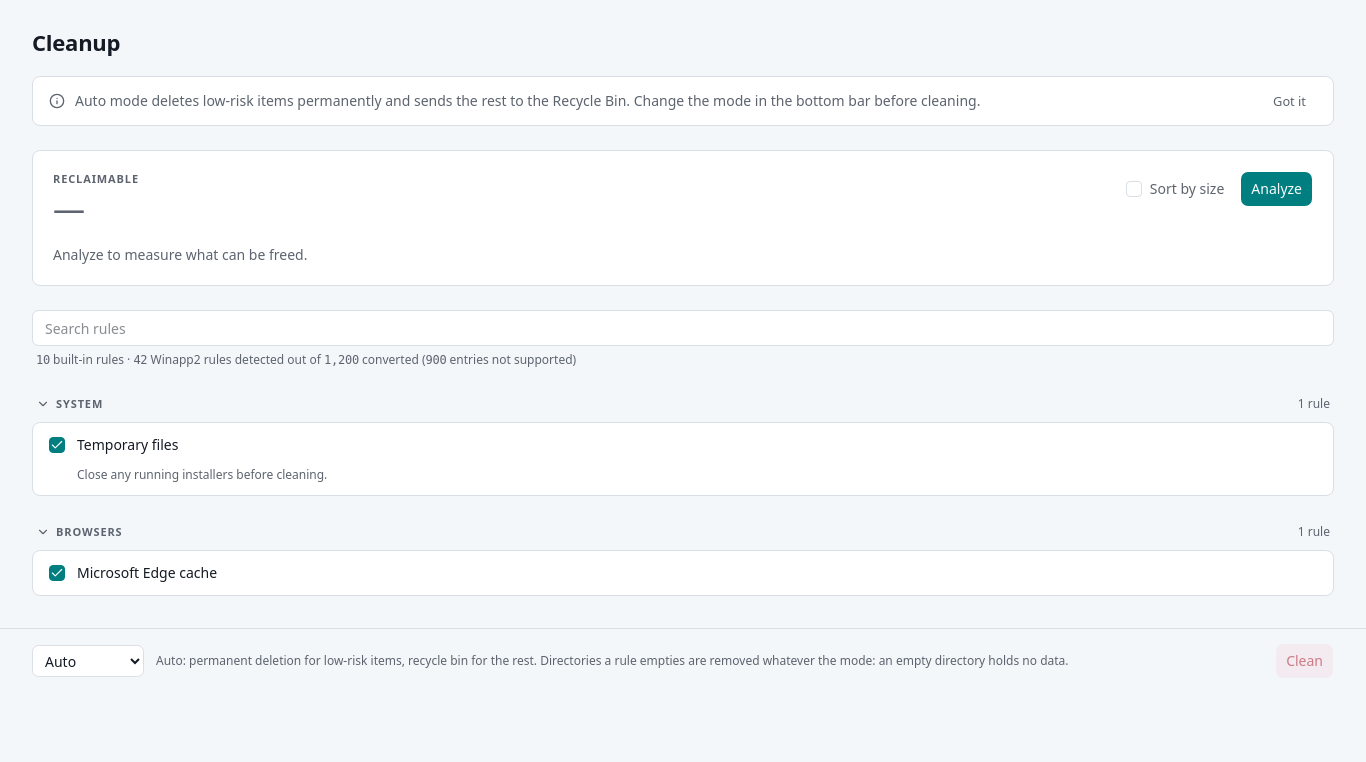
CleanPanel › shows the size per rule, the total and the expandable paths
The width and height of the screenshot is (1366, 762).
Expected: the checkbox named "Temporary files" is shown, left=49, top=437, right=65, bottom=453
Click the button "Analyze". click: (1277, 189)
box: left=1240, top=171, right=1313, bottom=207
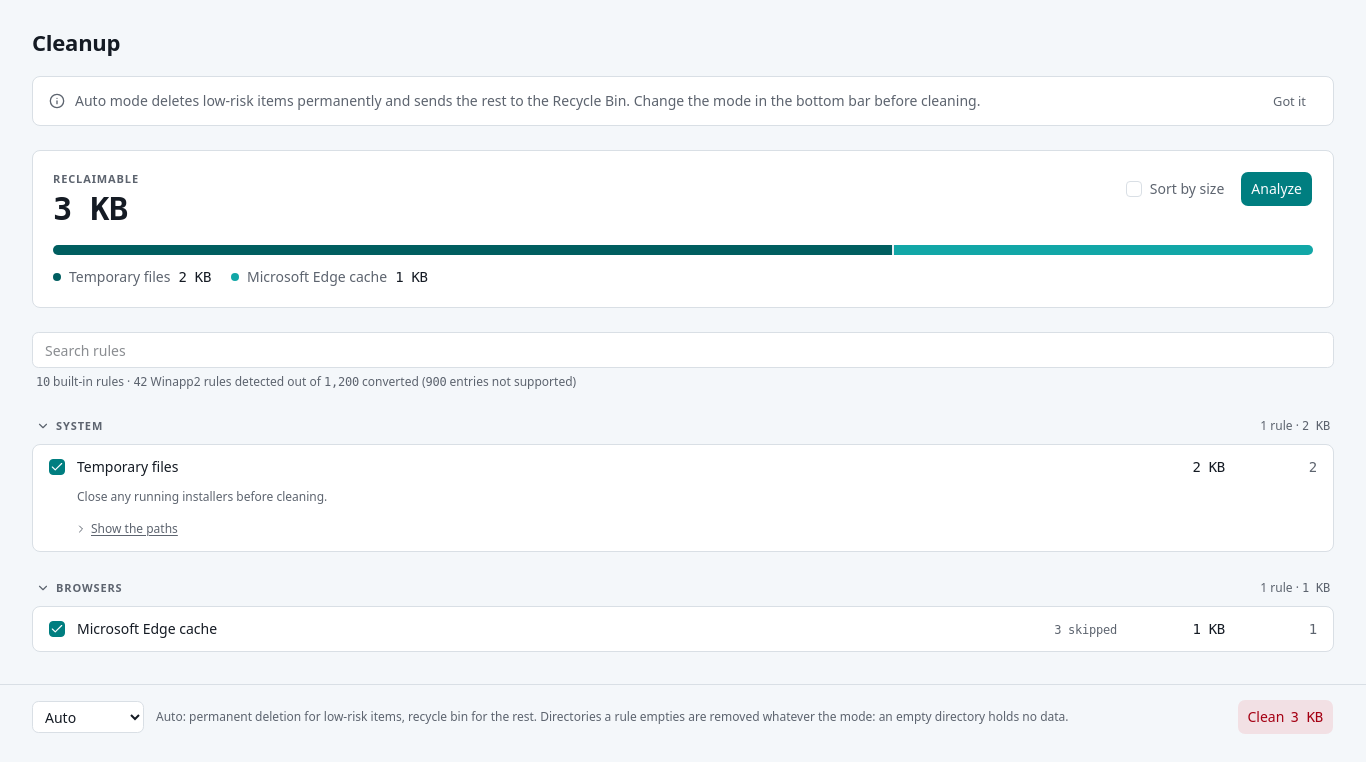
Now the text with test id "total-bytes" reads "3 KB", box left=53, top=190, right=128, bottom=228
Now the element with test id "result-windows.temp" shows "2 KB", box left=1192, top=459, right=1225, bottom=475
Now the element with test id "result-edge.cache" shows "3 skipped", box left=1054, top=623, right=1117, bottom=637
Click the button with test id "toggle-paths-windows.temp". click: (126, 529)
box: left=71, top=519, right=182, bottom=539
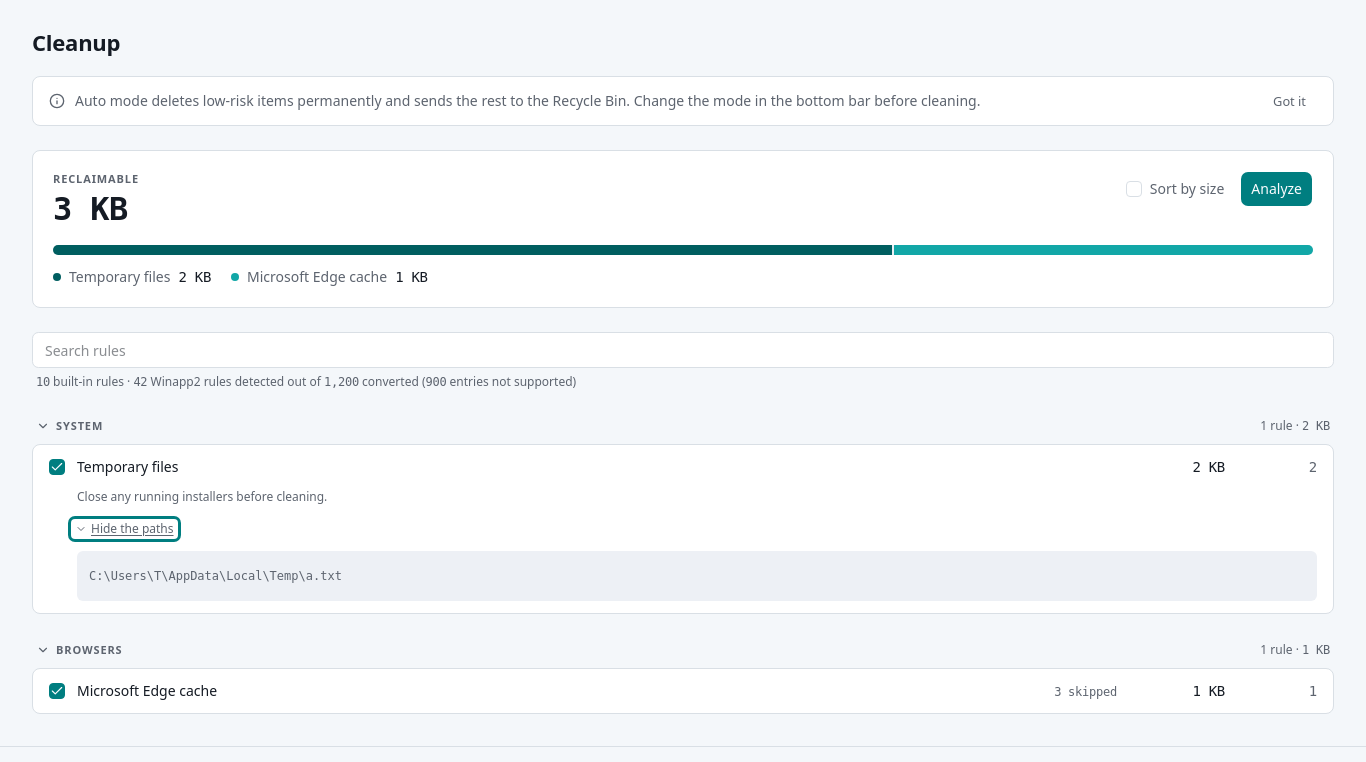
Now the text "C:\\Users\\T\\AppData\\Local\\Temp\\a.txt" is shown, box left=89, top=569, right=342, bottom=583
